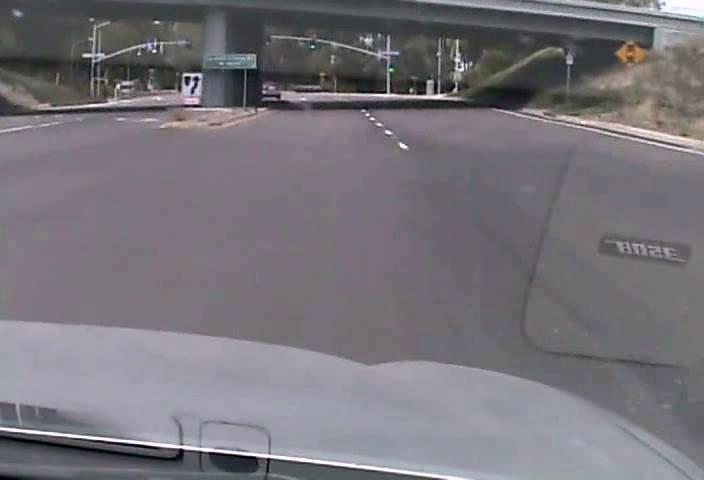signalAhead: (614, 37, 647, 67)
